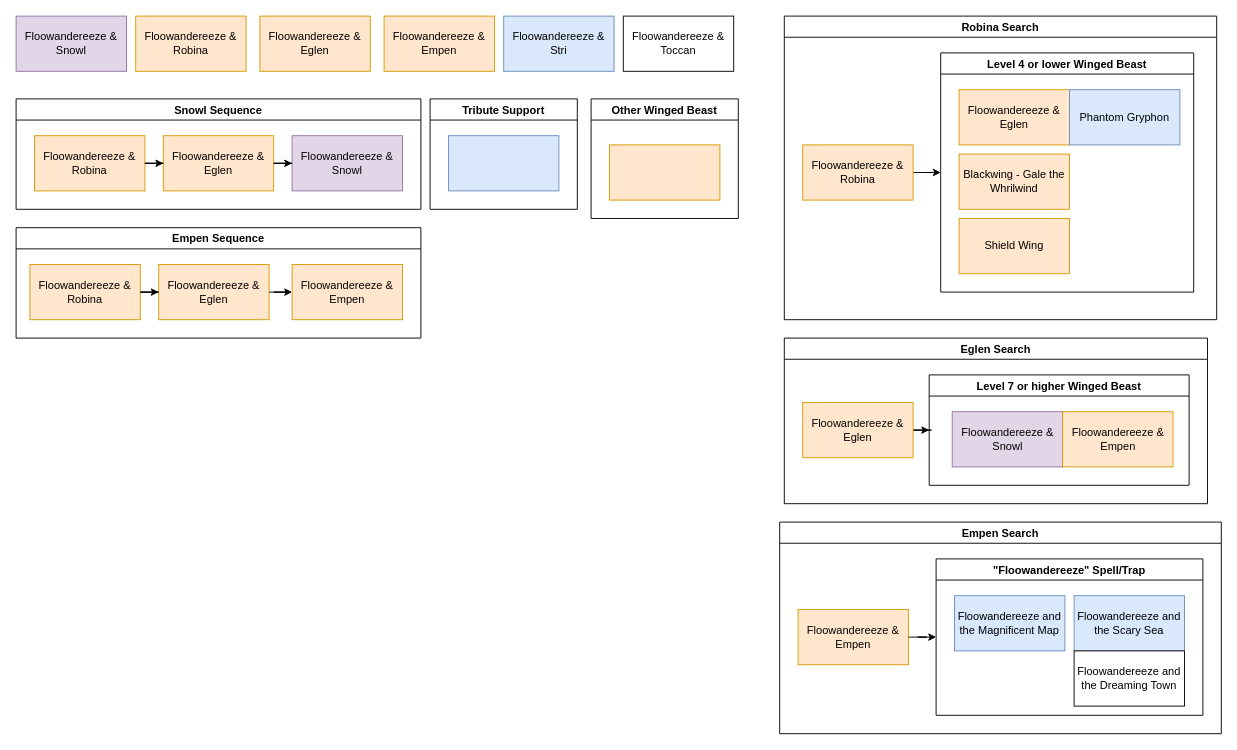
The diagram is 1237 pixels wide and 750 high, and some of its shapes have lost their labels. The centre of each missing label's shape, as x and y in pixels:
Raiza the Storm Monarch: the point at 664,172
Soul Exchange: the point at 503,163
